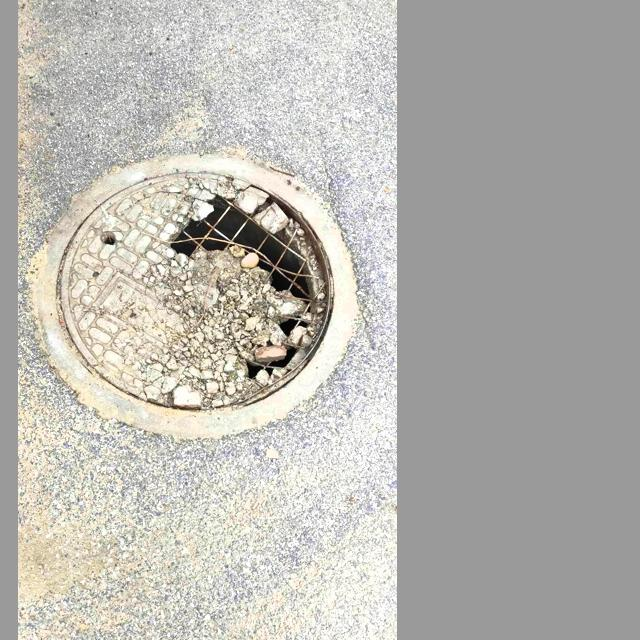broke: (38, 155, 358, 441)
